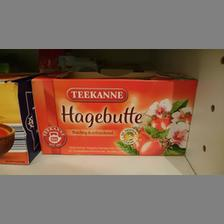Tee: (28, 68, 196, 156)
